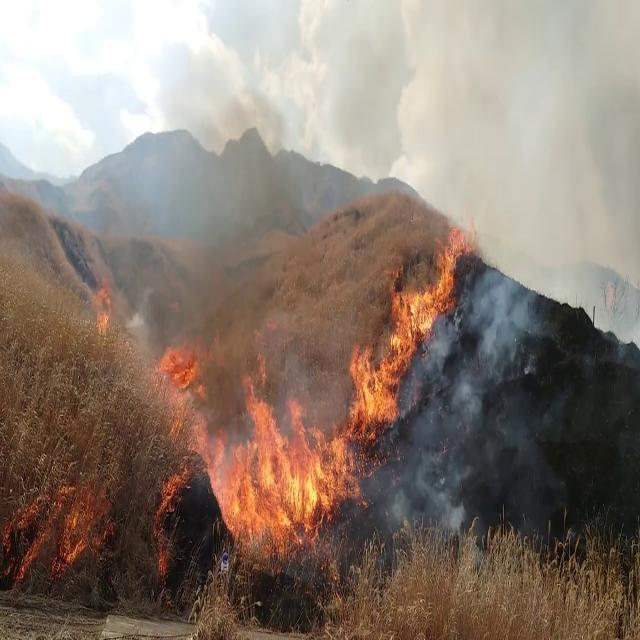Fire: (154, 338, 358, 556), (348, 225, 467, 435), (90, 271, 116, 339)
Smoke: (382, 269, 554, 546), (144, 46, 325, 286)
